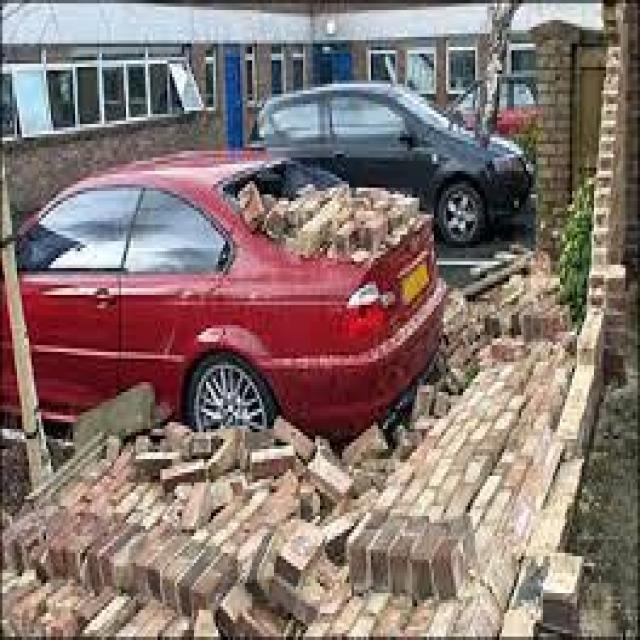damaged: (228, 165, 434, 262)
